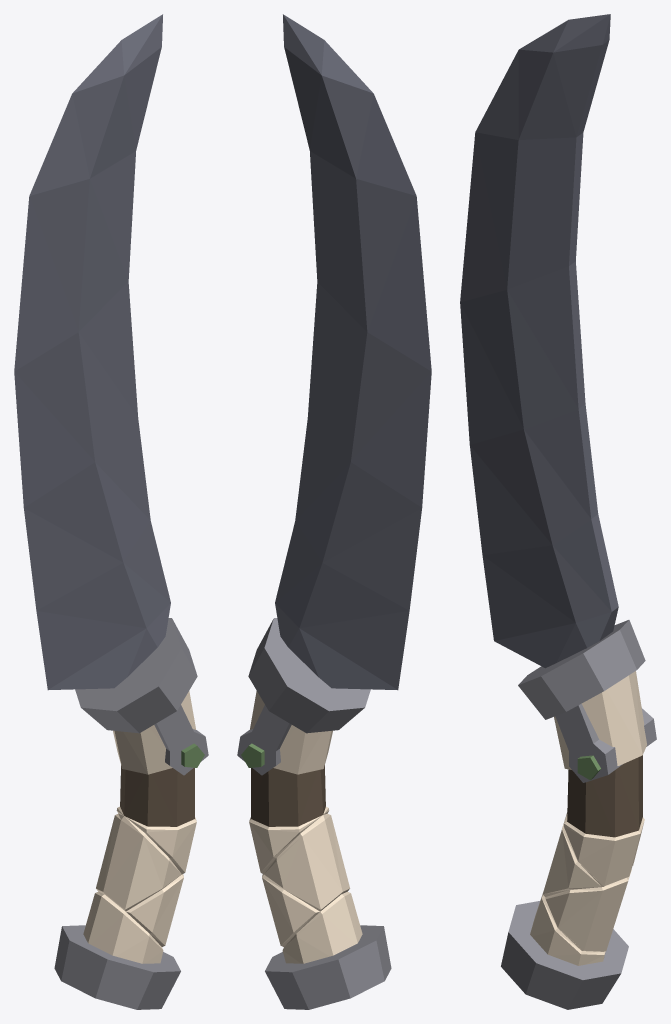
File: dagger_dagger_7.glb
3 renders of one model, left to right at view 1: azimuth 30°, elevation 25°; view 2: azimuth 150°, elevation 25°; view 3: azimuth 330°, elevation 25°, orthographic.
Visible parts, largest first — view 1: dagger_7; view 2: dagger_7; view 3: dagger_7.
Part boxes in pixels (x1,y1,x2,y2): dagger_7: (14, 14, 208, 1009); dagger_7: (237, 14, 431, 1009); dagger_7: (460, 14, 656, 1009).
Size of the model in its own units: 8.63 by 44.81 by 5.34.
Materials: 1 (1 with a texture image).
